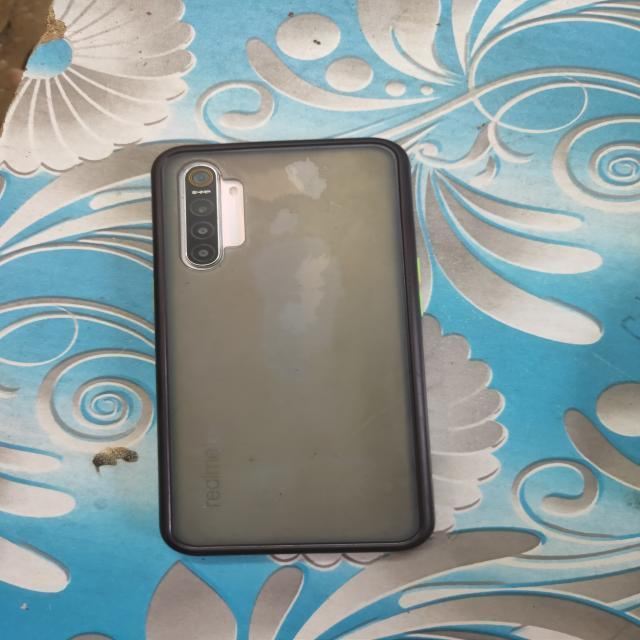Phone: (147, 135, 438, 559)
